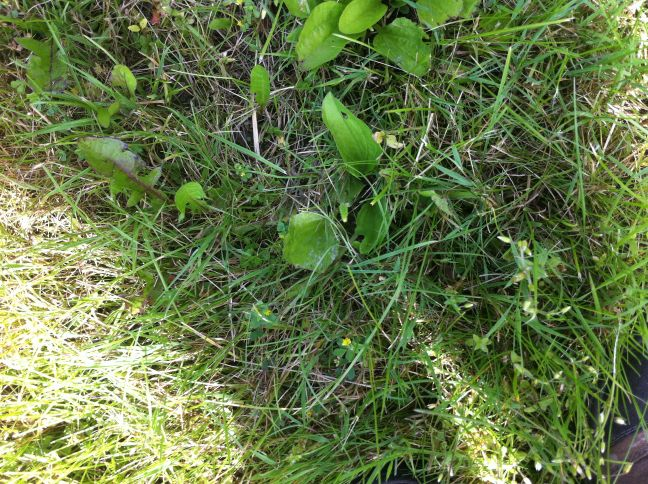weed1: (280, 89, 391, 271), (276, 2, 478, 78)
